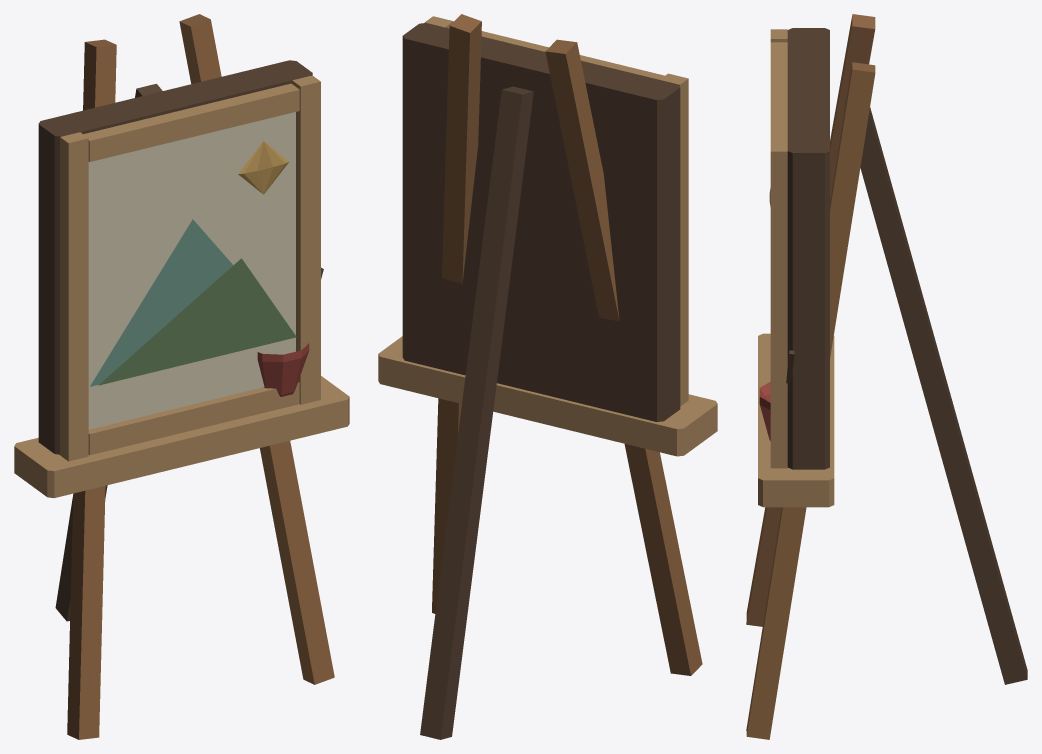
File: easel_bailu.glb
3 views of the same model, side by side, from view 1: azimuth 30°, elevation 25°; view 2: azimuth 150°, elevation 25°; view 3: azimuth 270°, elevation 25° (orthographic).
Parts seen in each view (by area): view 1: geometry; view 2: geometry; view 3: geometry.
Part boxes in pixels (x1,y1,x2,y2): geometry: [14, 14, 349, 739]; geometry: [378, 14, 717, 739]; geometry: [746, 14, 1027, 739].
Bounding box in the file's own units: 0.82 × 1.66 × 0.6641.
